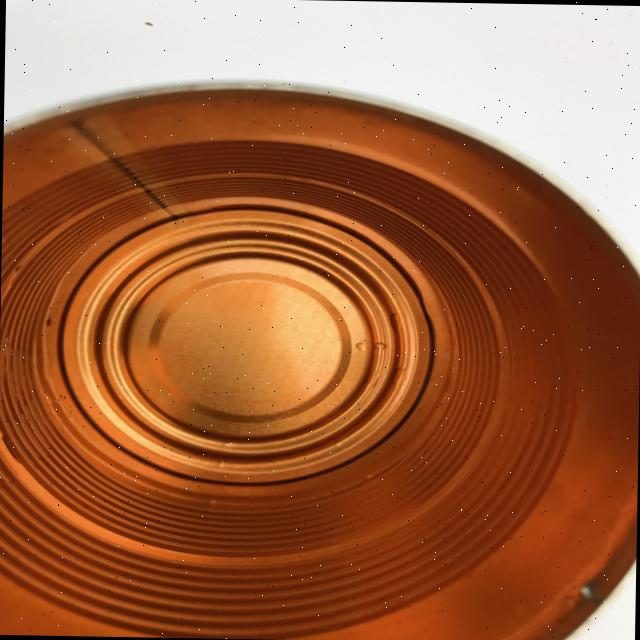metal: (0, 74, 640, 640)
